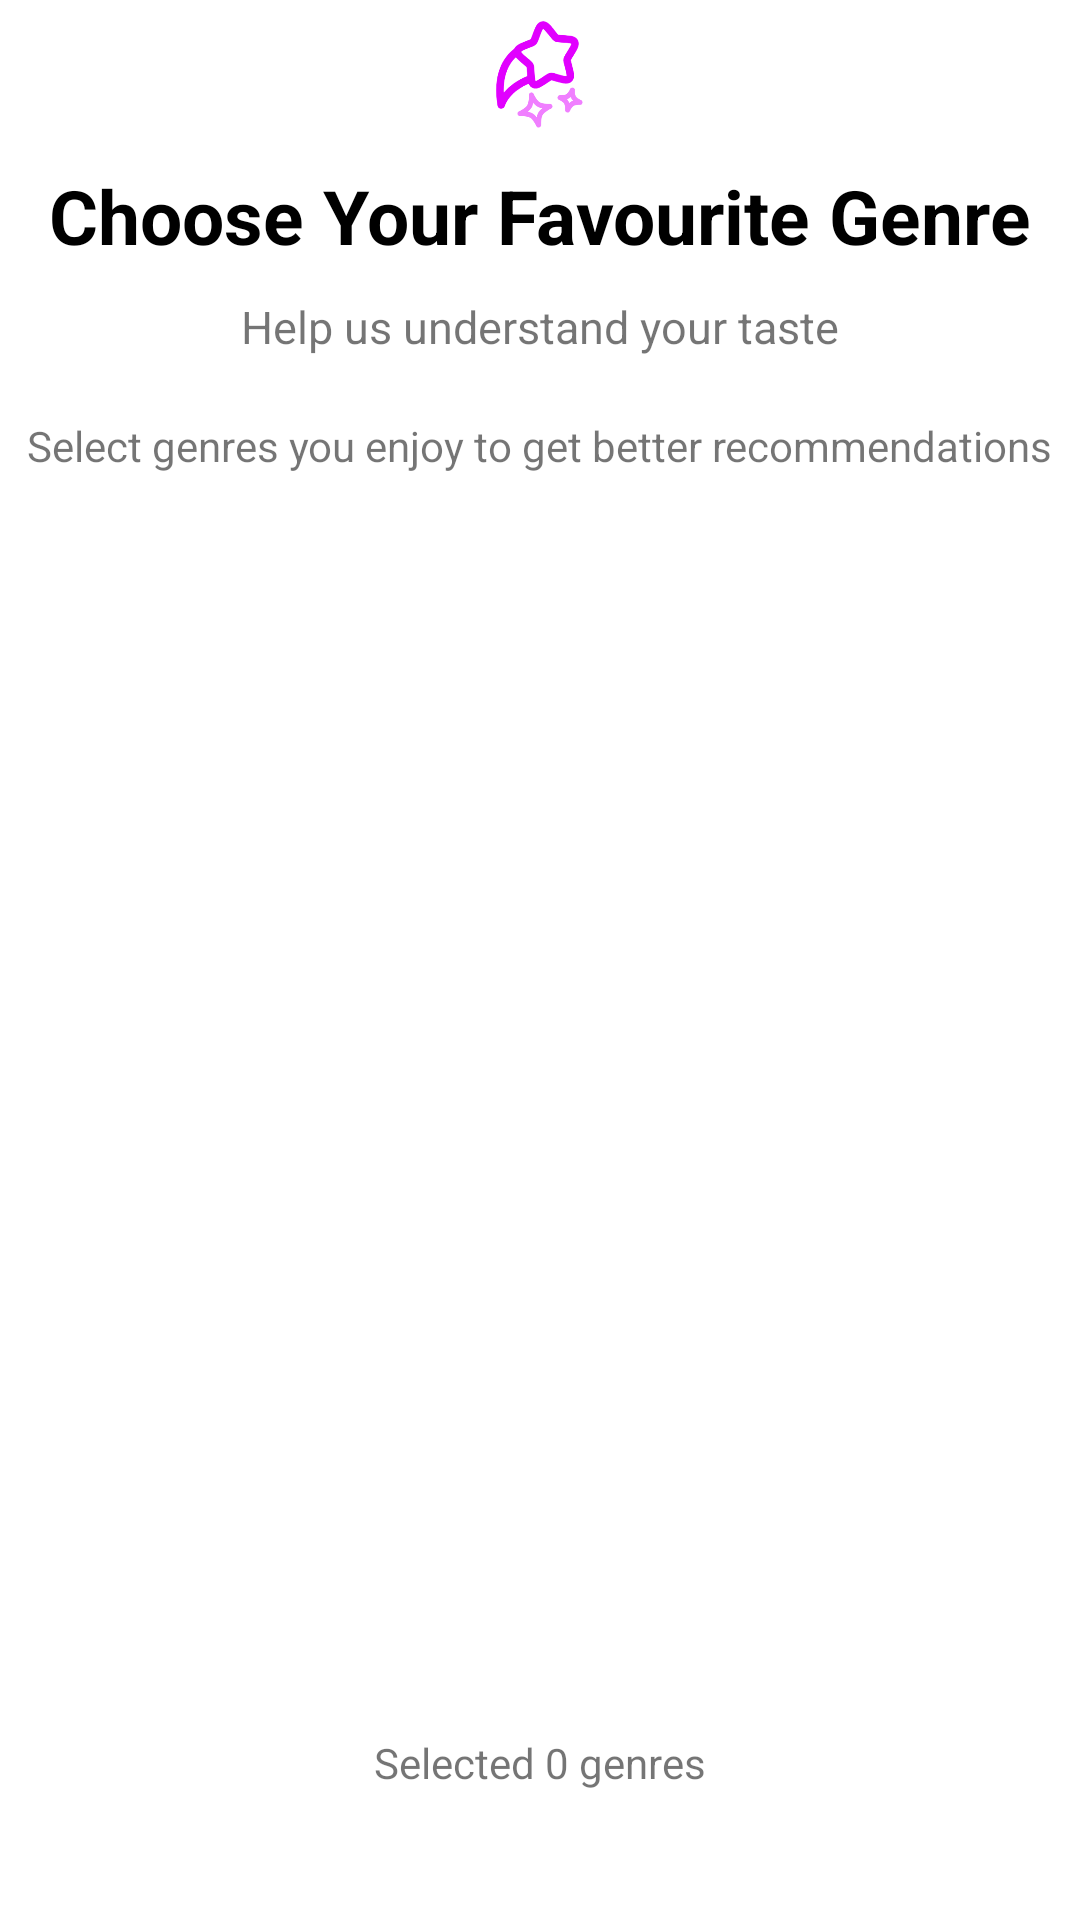

Point at icon controls on the screen. Image size 1080×1920, points as point (x, y).
smart: point (539, 74)
